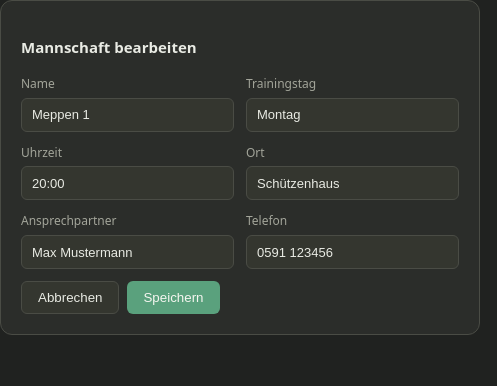
Test: EditTeamForm › shows the backend's error message on a rejected save (e.g. duplicate name)
Click the button "Speichern": (174, 298) [128,281,220,314]
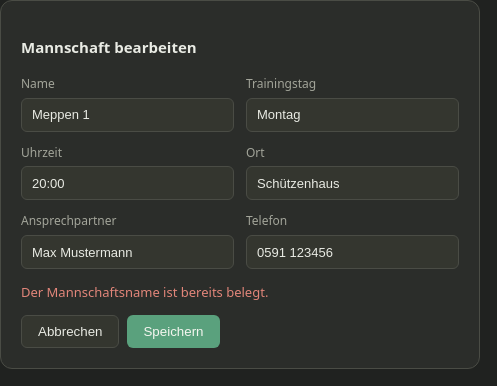
Result: the text "Der Mannschaftsname ist bereits belegt." is shown at [21,283,268,301]
